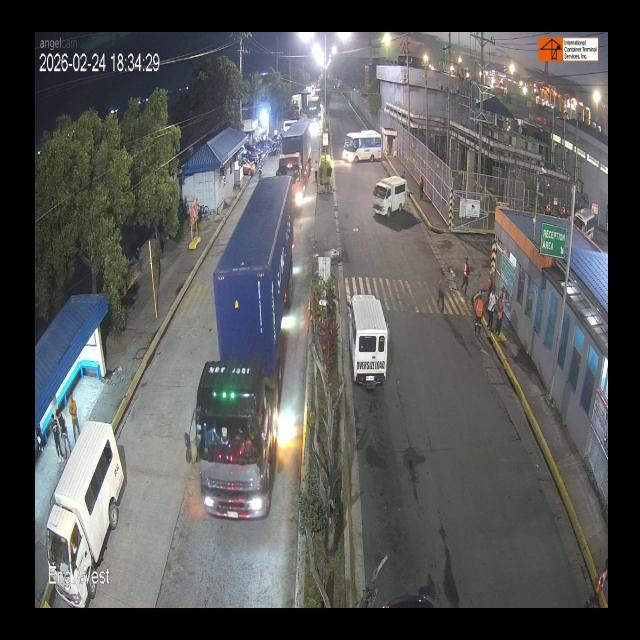bus: (338, 124, 389, 164)
car: (55, 428, 121, 564), (346, 292, 395, 393), (374, 169, 406, 220)
truck: (194, 175, 309, 528), (274, 116, 314, 209)
